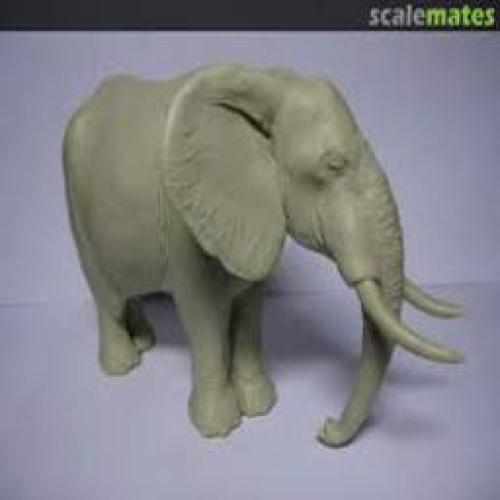african_elephant-endangered: (66, 73, 458, 439)
